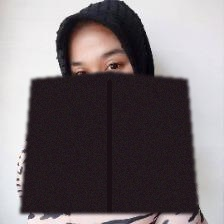Cadar_Niqab: (20, 0, 198, 213)
